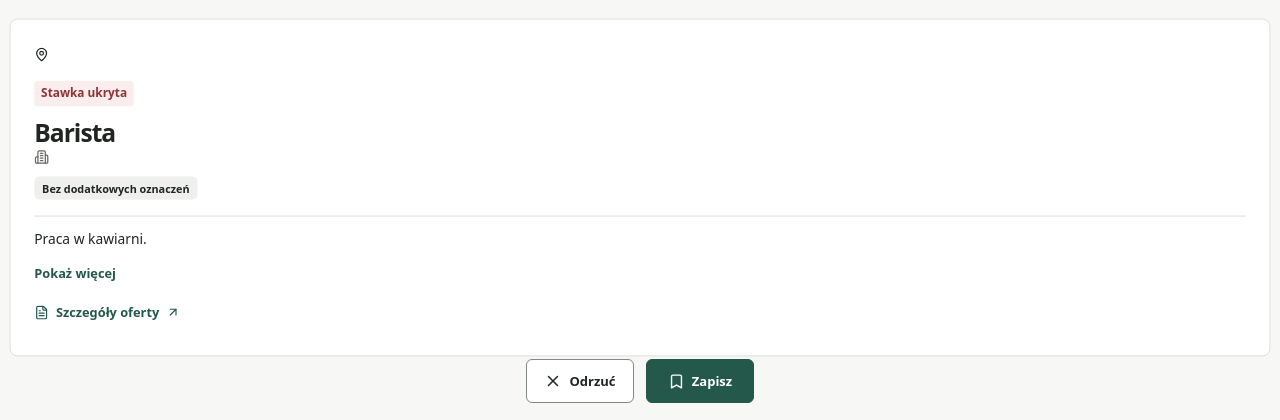
swipe card transitions › labels a source excerpt ending with … and only links to HTTPS
Click the button with class "job-description-toggle" at x=75, y=273, box [34,253,116,293]
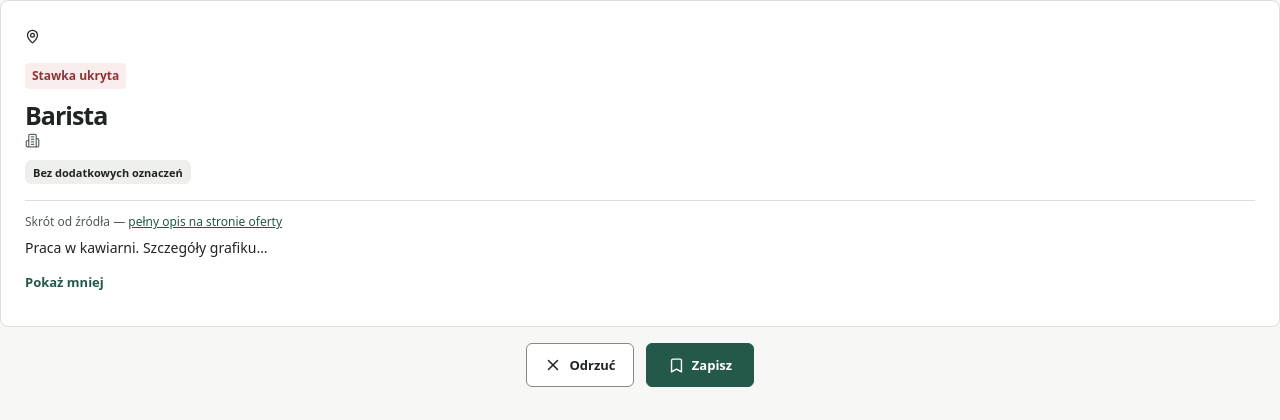
Now the element with class "job-description-source-note" reads "Skrót od źródła — pełny opis na stronie oferty", box [25,213,282,230]
Now the button with class "job-details-button" is gone
